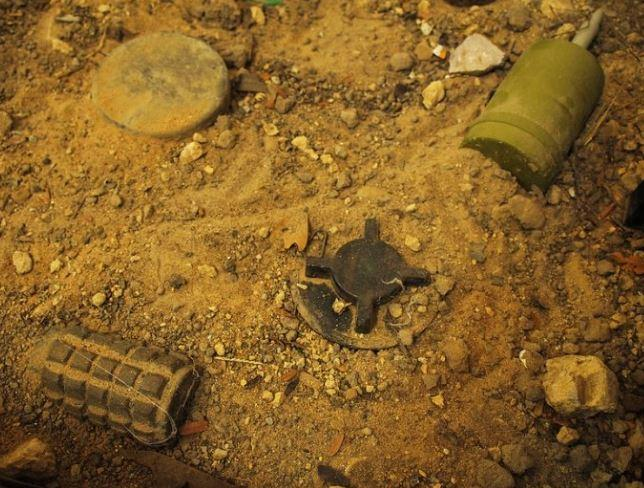pmn: (286, 202, 443, 355)
